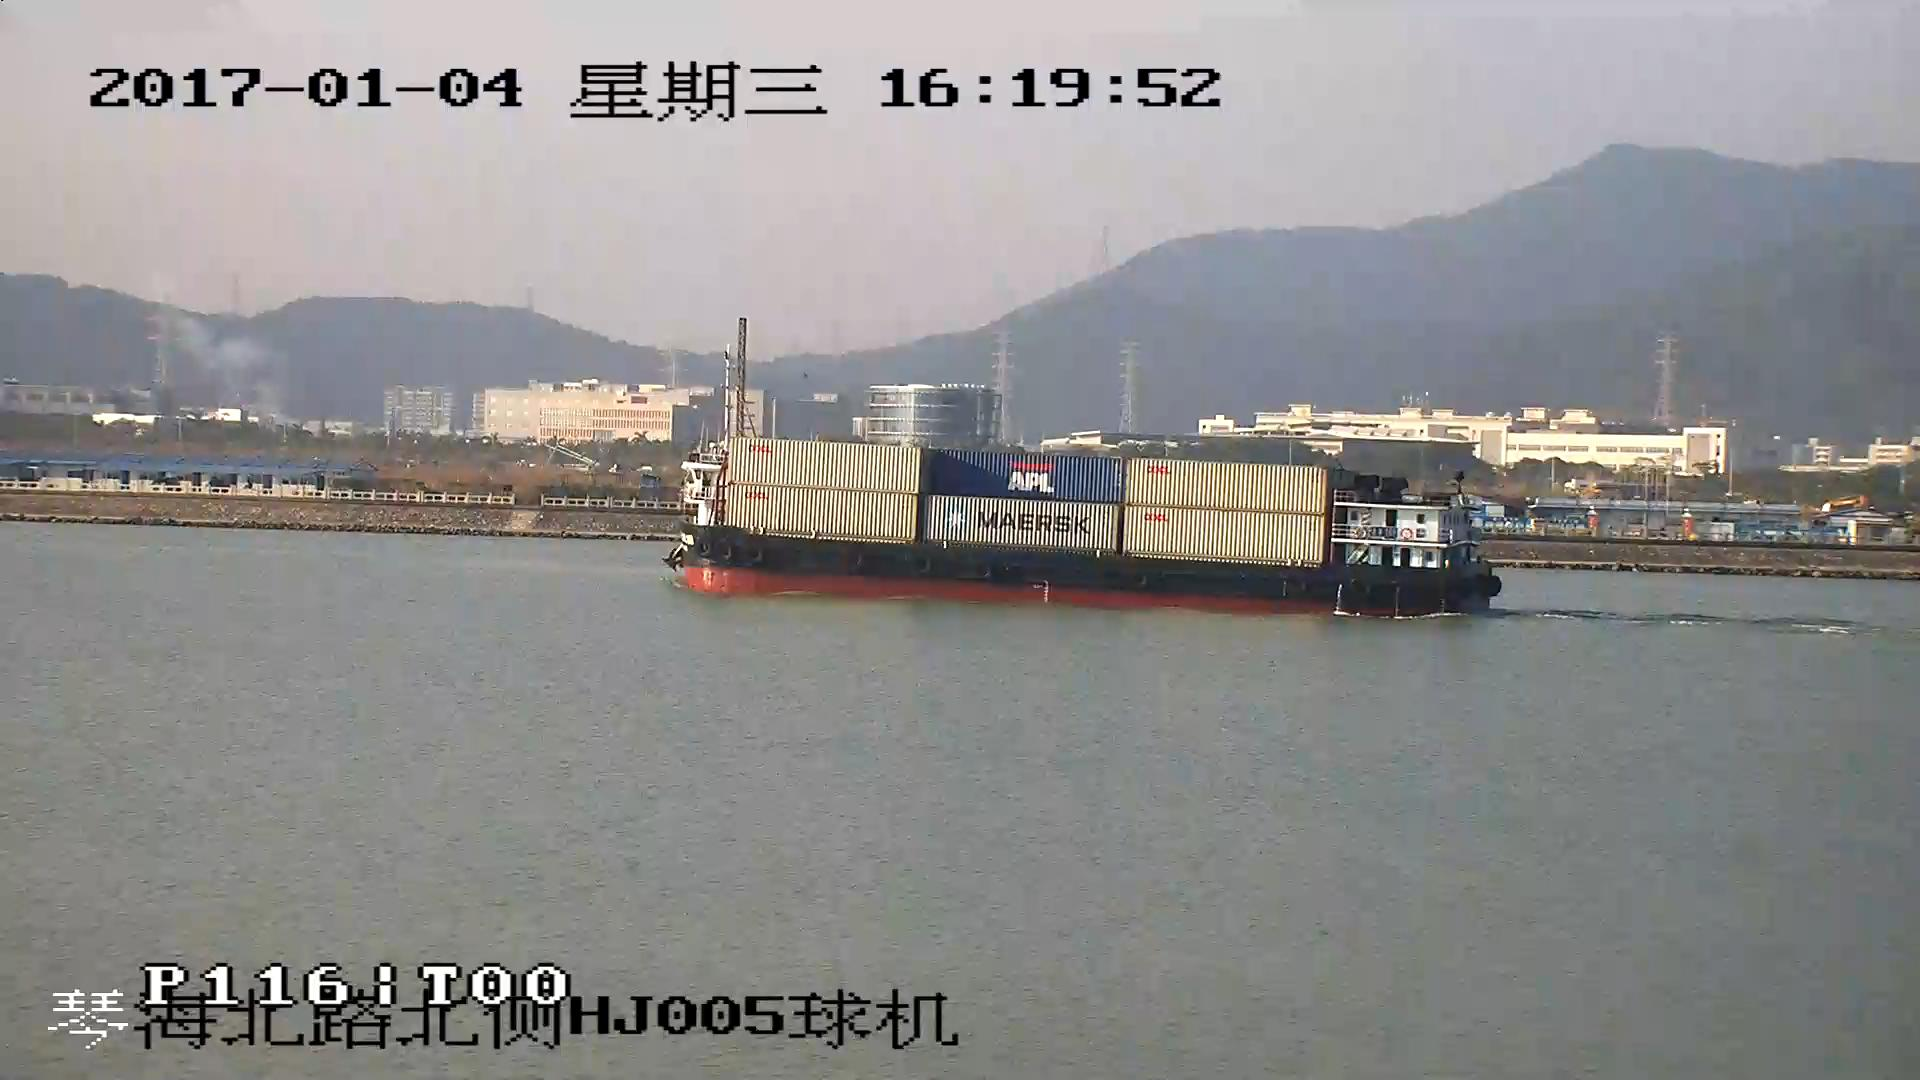container ship: (670, 433, 1500, 615)
